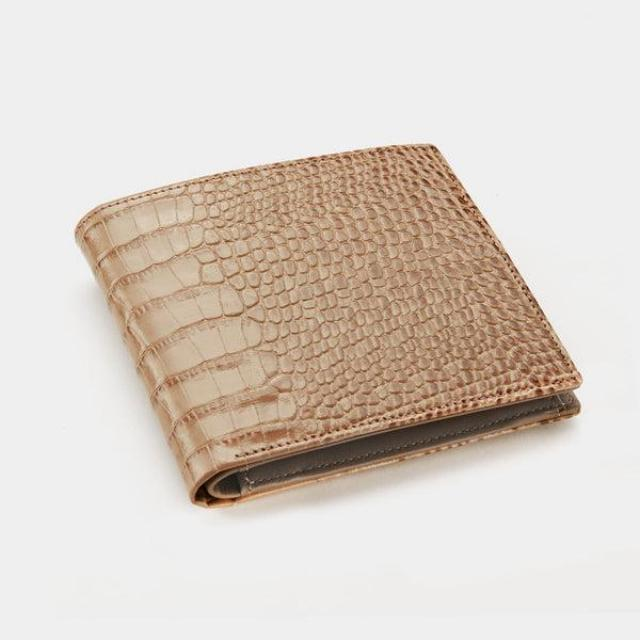Wallet: (75, 145, 580, 505)
